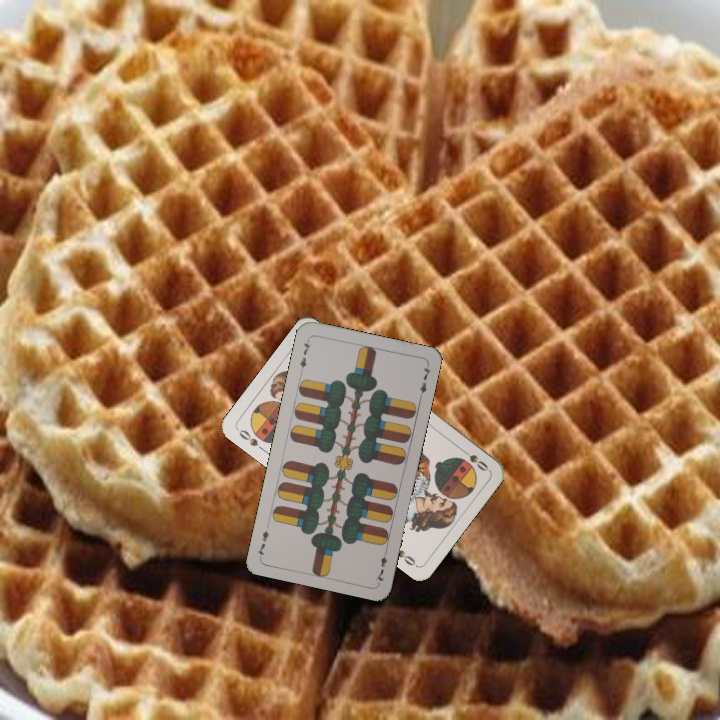E7: (371, 545, 390, 585), (296, 335, 313, 375)
SO: (456, 444, 491, 474), (234, 425, 268, 454)
